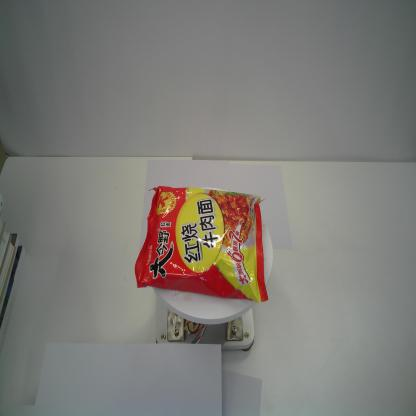Instant Noodles: (134, 183, 271, 306)
